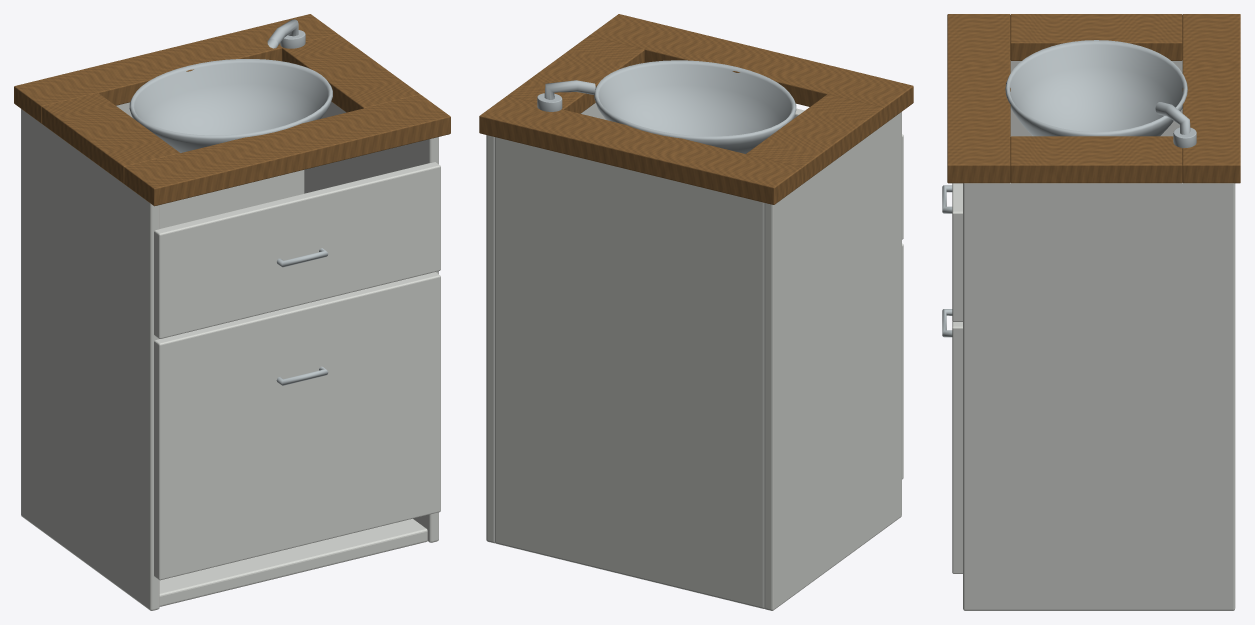
Rendered from bathroom-vanity.glb.
3 views of the same model, side by side, from view 1: azimuth 30°, elevation 25°; view 2: azimuth 150°, elevation 25°; view 3: azimuth 270°, elevation 25° (orthographic). The views are drawn at different scales.
Visible parts, largest first — view 1: bathroom-vanity · white.002, bathroom-vanity · oak.001, bathroom-vanity · metal.002; view 2: bathroom-vanity · white.002, bathroom-vanity · oak.001, bathroom-vanity · metal.002; view 3: bathroom-vanity · white.002, bathroom-vanity · oak.001, bathroom-vanity · metal.002.
Boxes of the visible parts, x1,y1,x2,y2 form: bathroom-vanity · white.002: (21, 101, 440, 610); bathroom-vanity · oak.001: (14, 14, 450, 206); bathroom-vanity · metal.002: (129, 19, 332, 385); bathroom-vanity · white.002: (486, 103, 903, 610); bathroom-vanity · oak.001: (479, 14, 913, 204); bathroom-vanity · metal.002: (537, 60, 796, 153); bathroom-vanity · white.002: (952, 60, 1235, 610); bathroom-vanity · oak.001: (947, 14, 1240, 183); bathroom-vanity · metal.002: (942, 40, 1196, 337).
Bounding box in the file's own units: 0.6 × 0.88 × 0.5.
Materials: 4 (1 with a texture image).
